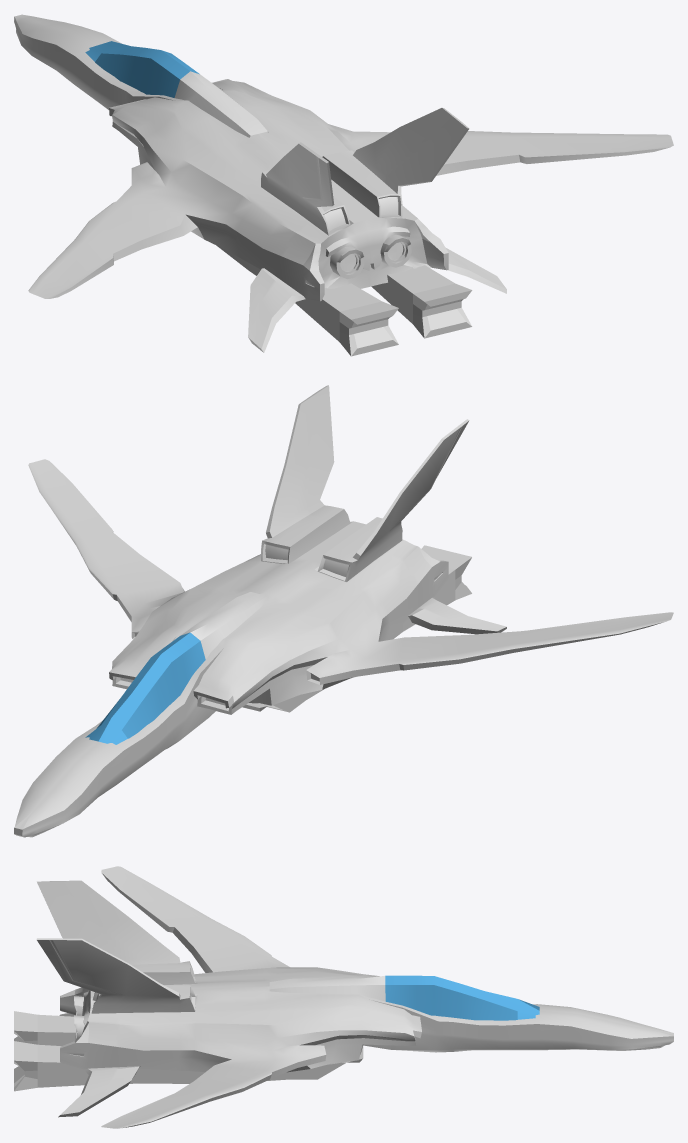
File: AVION MODELO A.fbx
The picture shows the model from 3 angles, top to bottom: view 1: azimuth 30°, elevation 25°; view 2: azimuth 150°, elevation 25°; view 3: azimuth 270°, elevation 25°; orthographic projection. The views are drawn at different scales.
Parts seen in each view (by area): view 1: Modelo a, Piernas, Cabina; view 2: Modelo a, Cabina, Piernas; view 3: Modelo a, Cabina, Piernas.
Part boxes in pixels (x1,y1,x2,y2): Modelo a: (14, 14, 673, 352); Piernas: (216, 245, 472, 356); Cabina: (85, 41, 268, 137); Modelo a: (14, 385, 673, 837); Cabina: (85, 592, 268, 744); Piernas: (242, 545, 471, 712); Modelo a: (36, 866, 673, 1128); Cabina: (269, 975, 539, 1020); Piernas: (14, 1011, 363, 1091).
Bounding box in the file's own units: 3142 × 881 × 3336.
